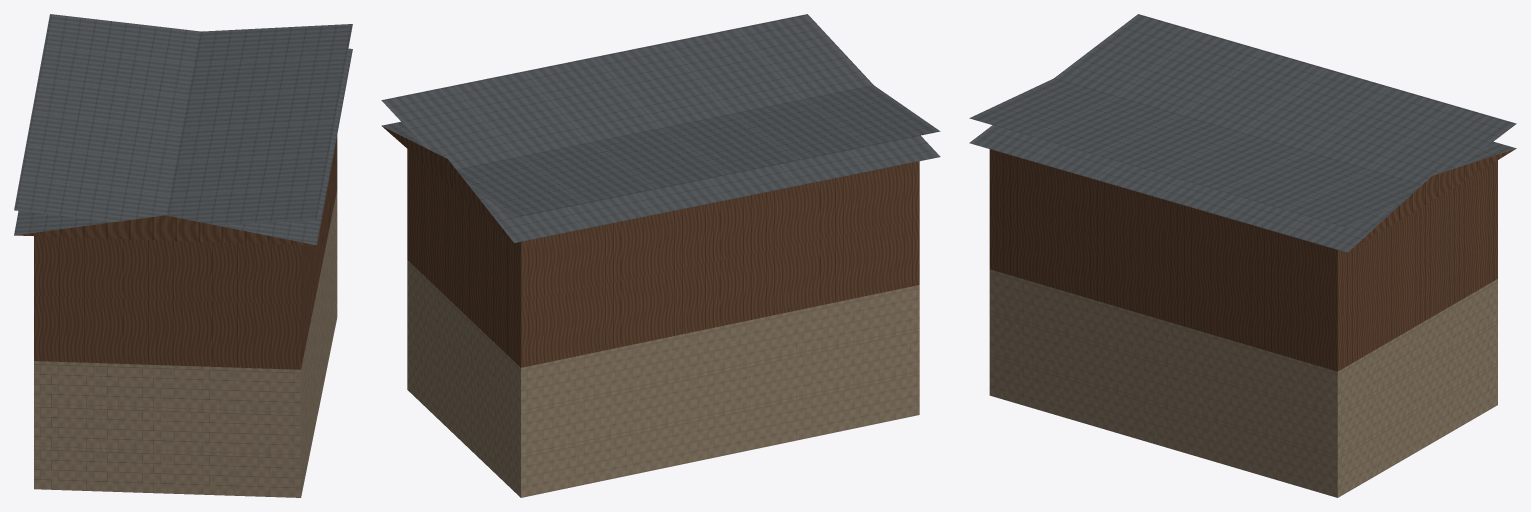
Rendered from bld_c21_43_384.gltf.
The picture shows the model from 3 angles, left to right: view 1: azimuth 30°, elevation 25°; view 2: azimuth 150°, elevation 25°; view 3: azimuth 270°, elevation 25°; orthographic projection. The views are drawn at different scales.
Visible parts, largest first — view 1: bld_c21_43_384; view 2: bld_c21_43_384; view 3: bld_c21_43_384.
Part boxes in pixels (x1=…): bld_c21_43_384: x1=14, y1=14, x2=352, y2=497; bld_c21_43_384: x1=381, y1=14, x2=940, y2=497; bld_c21_43_384: x1=969, y1=14, x2=1516, y2=497.
Size of the model in its own units: 18.53 by 11.3 by 20.05.
Materials: 4 (4 with a texture image).
